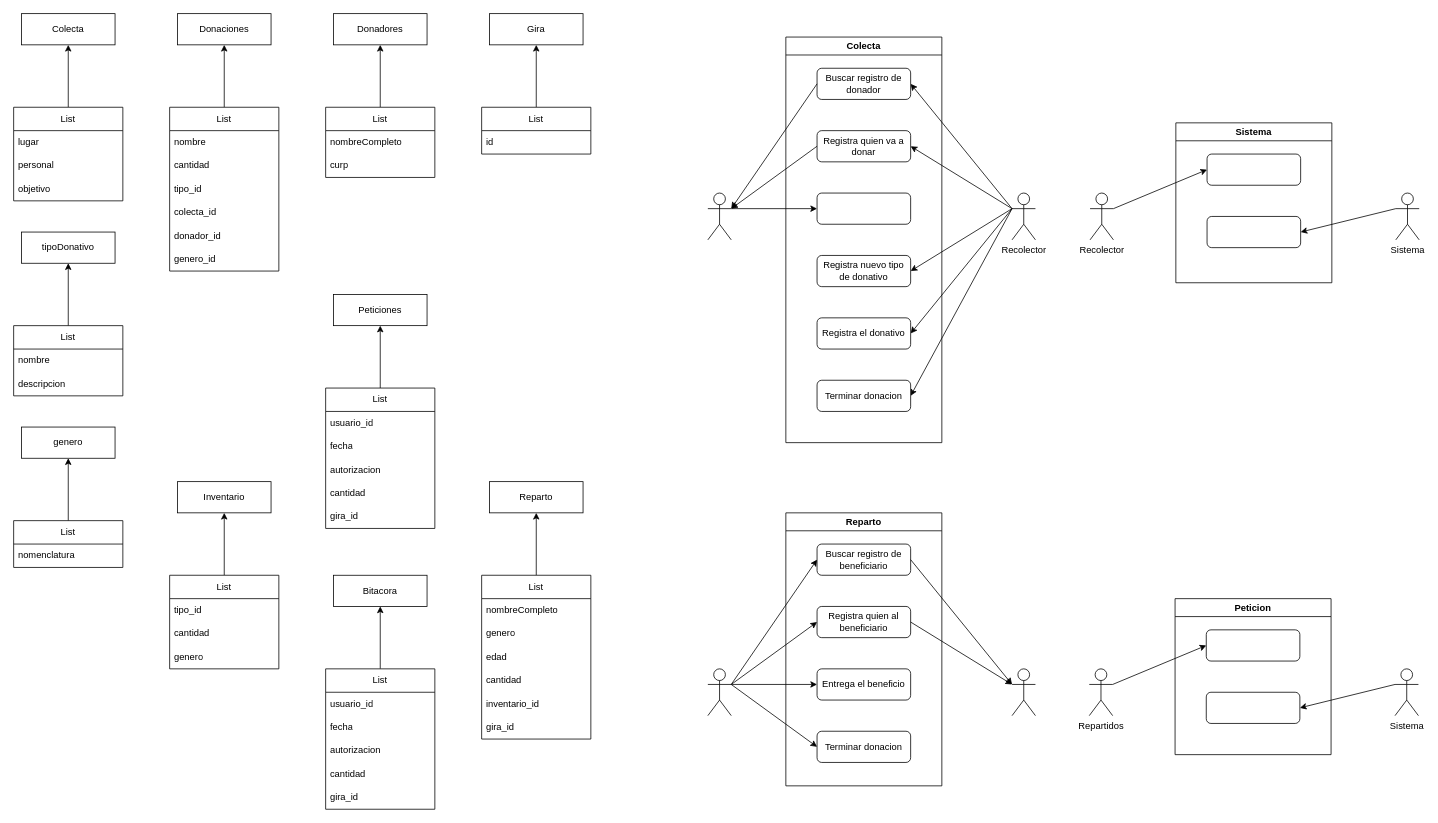
Some shapes in this 1438 by 823 pixel diagram are drawn without their labels. The shapes that lost their labels are listed below. From the top down, each one's box as (x1, y1, x2, y2) in pixels, then its label:
(1206, 153, 1301, 185): Realiza el inventariado
(707, 192, 731, 240): Donador
(816, 192, 911, 224): Entrega el donativo
(1206, 216, 1301, 248): Reporte de colecta
(1205, 629, 1300, 661): Realiza la peticion
(707, 668, 731, 716): Repartidor
(1011, 668, 1035, 716): Beneficiario
(1205, 691, 1300, 723): Reporte de solicitud
